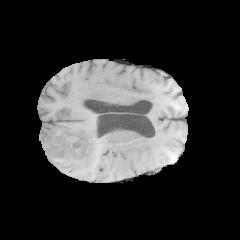glioma: (39, 123, 104, 176)
